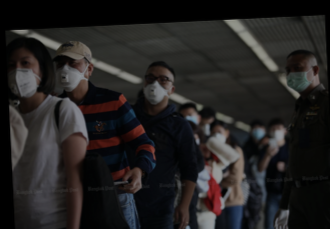with_mask: (8, 55, 38, 100), (54, 56, 82, 93), (285, 60, 312, 92), (143, 71, 169, 104), (270, 122, 287, 142), (180, 110, 199, 125), (250, 123, 267, 139), (211, 128, 228, 144), (198, 119, 214, 136)
